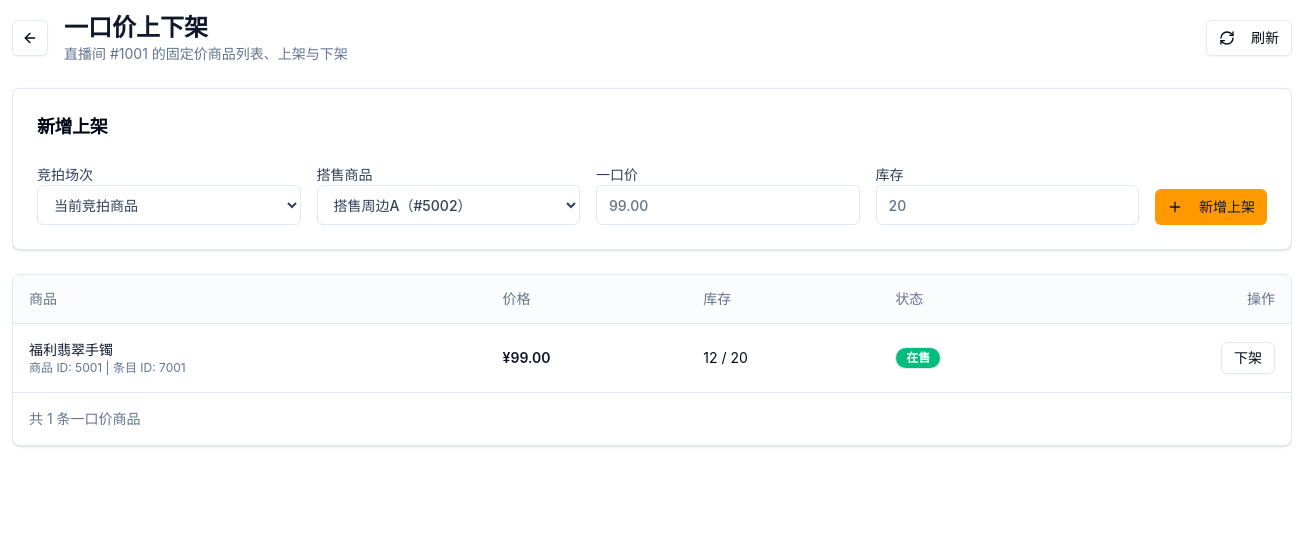
Test case: LiveStreamFixedPrice › adds a listed row after listing succeeds
Expected: the dropdown labelled "竞拍场次" shows "当前竞拍商品", [37,185,300,225]
Select "搭售周边A（#5002）" in the dropdown labelled "搭售商品". click: (448, 205)
box: [316,185,580,225]
Type "199.00" into the field labelled "一口价". click: (728, 205)
box: [596,185,860,225]
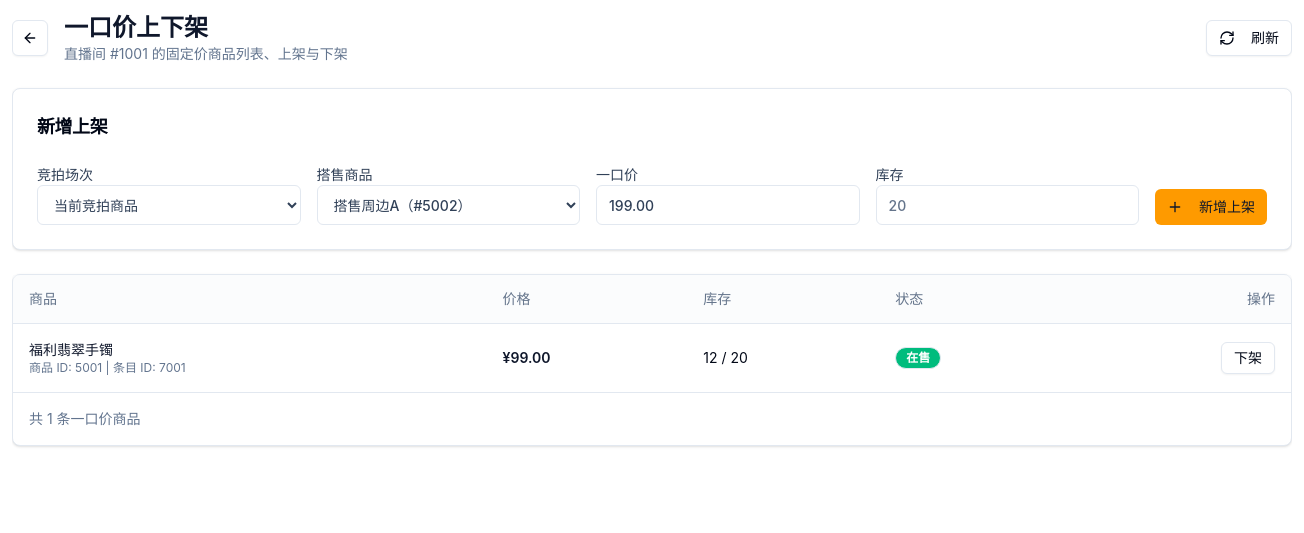
Type "5" into the number field labelled "库存". click: (1007, 205)
box: [876,185,1139,225]
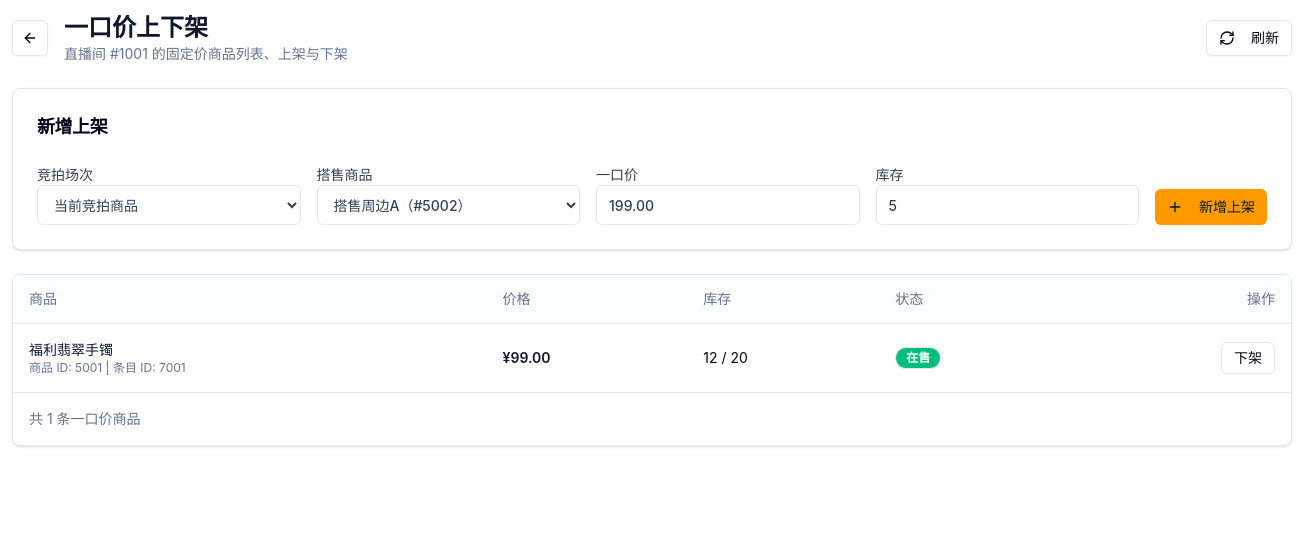
Click the button "新增上架". click: (1211, 207)
box: [1155,189,1267,225]
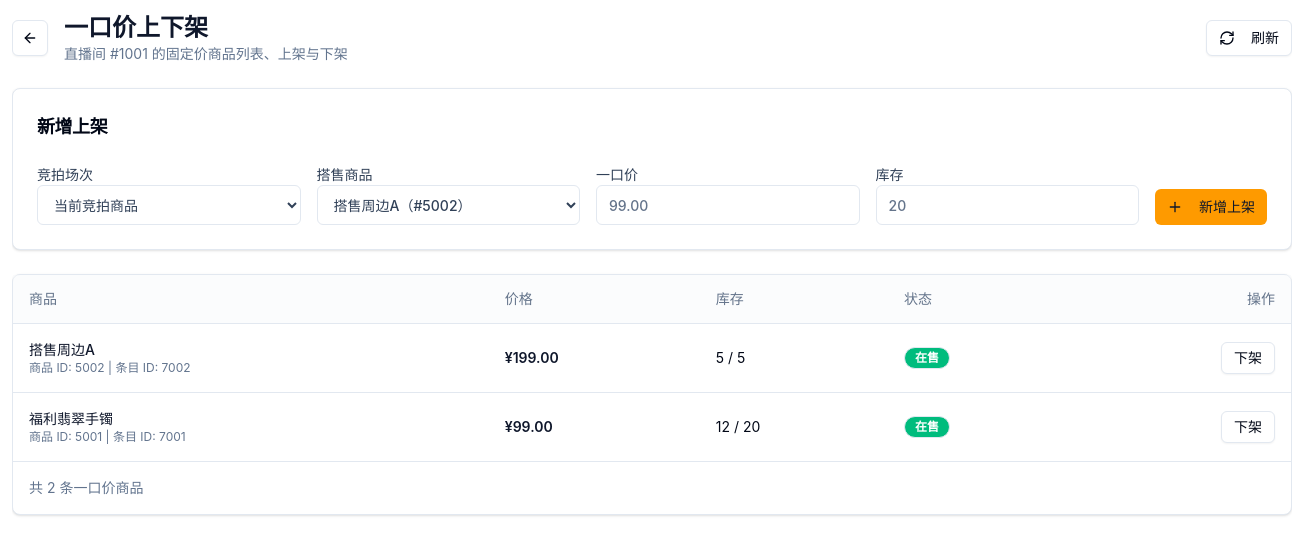
Result: the text "搭售周边A" is shown at [29,340,95,358]
Result: the text "¥199.00" is shown at [489,323,700,392]
Result: the text "5 / 5" is shown at [700,323,888,392]
